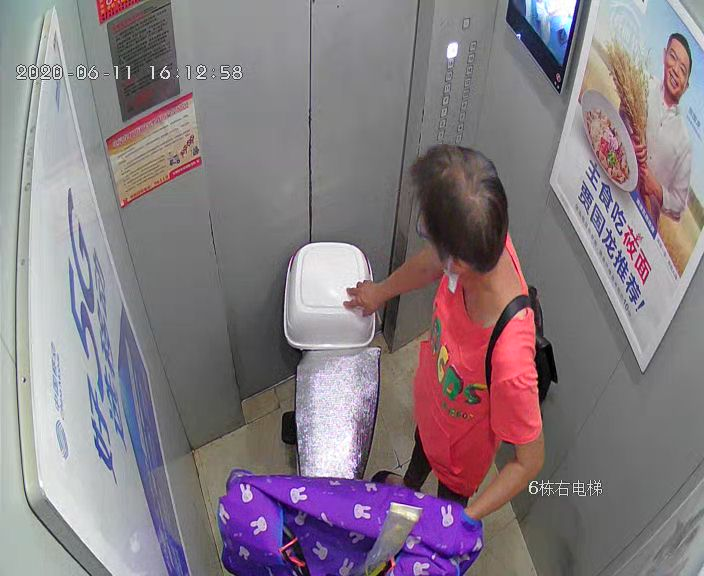Electric-bicycle: (273, 238, 383, 576)
